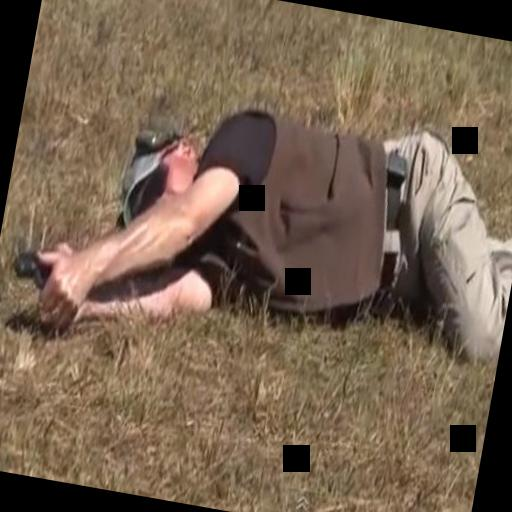Handgun: (8, 221, 82, 313)
